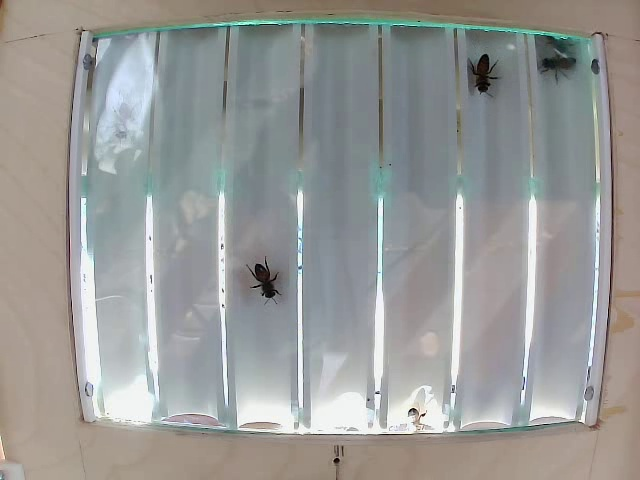bee: (243, 264, 288, 298), (472, 56, 497, 102), (548, 50, 578, 74)
